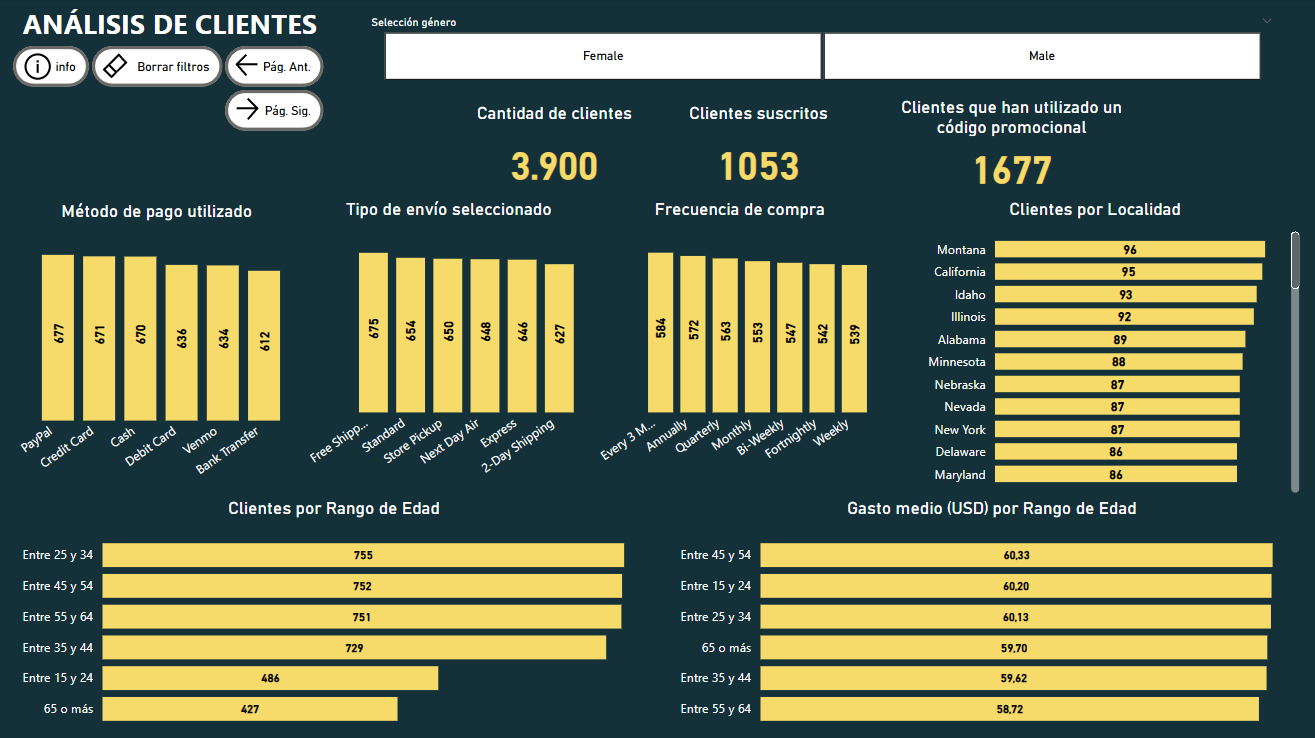

The page's visual inventory and layout, read from the dashboard file:
{"tool":"powerbi","page":{"name":"Análisis de Clientes","canvas":[1280,720],"ordinal":1},"visuals":[{"type":"barChart","title":"Clientes por Localidad","fields":{"Category":["shopping_behavior_updated.Location"],"Y":["CountNonNull(shopping_behavior_updated.Customer ID)"]},"box":[862.6,194.9,407.1,290.6],"z":0},{"type":"card","title":"Cantidad de clientes","fields":{"Values":["CountNonNull(shopping_behavior_updated.Customer ID)"]},"box":[453.2,101.5,174.1,96.9],"z":1000},{"type":"slicer","fields":{"Values":["shopping_behavior_updated.Gender"]},"box":[349.4,11.5,901.8,73.8],"z":2000},{"type":"clusteredColumnChart","title":"Método de pago utilizado","fields":{"Y":["CountNonNull(shopping_behavior_updated.Customer ID)"],"Category":["shopping_behavior_updated.Payment Method"]},"box":[11.5,196,283.7,290.6],"z":3000},{"type":"textbox","box":[13.6,0,305.4,45.7],"z":4000},{"type":"actionButton","box":[13.5,45.8,73.9,39.5],"z":5000},{"type":"actionButton","box":[90.5,45.8,127,39.5],"z":6000},{"type":"actionButton","box":[219.6,45.8,95.7,39.5],"z":7000},{"type":"actionButton","box":[219.6,88.5,95.7,39.5],"z":8000},{"type":"card","title":"Clientes suscritos","fields":{"Values":["shopping_behavior_updated.ClientesSuscritos"]},"box":[651.5,101.5,174.1,96.9],"z":9000},{"type":"card","title":"Clientes que han utilizado un código promocional","fields":{"Values":["shopping_behavior_updated.ClientesPromo"]},"box":[847.6,95.7,275.6,96.9],"z":10000},{"type":"clusteredColumnChart","title":"Tipo de envío seleccionado","fields":{"Y":["CountNonNull(shopping_behavior_updated.Customer ID)"],"Category":["shopping_behavior_updated.Shipping Type"]},"box":[295.2,194.9,283.7,290.6],"z":11000},{"type":"clusteredColumnChart","title":"Frecuencia de compra","fields":{"Y":["CountNonNull(shopping_behavior_updated.Customer ID)"],"Category":["shopping_behavior_updated.Frequency of Purchases"]},"box":[578.9,194.9,283.7,290.6],"z":12000},{"type":"barChart","title":"Clientes por Rango de Edad","fields":{"Category":["shopping_behavior_updated.RangoEdad"],"Y":["CountNonNull(shopping_behavior_updated.Customer ID)"]},"box":[11.7,485.3,628.3,234.4],"z":13000},{"type":"barChart","title":"Gasto medio (USD) por Rango de Edad","fields":{"Category":["shopping_behavior_updated.RangoEdad"],"Y":["Avg(shopping_behavior_updated.Purchase Amount (USD))"]},"box":[651.7,485.3,628.3,234.4],"z":14000}]}

Visuals, with their boxes in screenshot pixels (x1, y1, x2, y2), scaled from the page's 1280x720 canvas onto the 1315x738 screenshot:
"Clientes por Localidad" barChart: [886, 200, 1304, 498]
"Cantidad de clientes" card: [466, 104, 644, 203]
slicer - shopping_behavior_updated.Gender: [359, 12, 1285, 87]
"Método de pago utilizado" clusteredColumnChart: [12, 201, 303, 499]
textbox: [14, 0, 328, 47]
actionButton: [14, 47, 90, 87]
actionButton: [93, 47, 223, 87]
actionButton: [226, 47, 324, 87]
actionButton: [226, 91, 324, 131]
"Clientes suscritos" card: [669, 104, 848, 203]
"Clientes que han utilizado un código promocional" card: [871, 98, 1154, 197]
"Tipo de envío seleccionado" clusteredColumnChart: [303, 200, 595, 498]
"Frecuencia de compra" clusteredColumnChart: [595, 200, 886, 498]
"Clientes por Rango de Edad" barChart: [12, 497, 658, 737]
"Gasto medio (USD) por Rango de Edad" barChart: [670, 497, 1314, 737]
